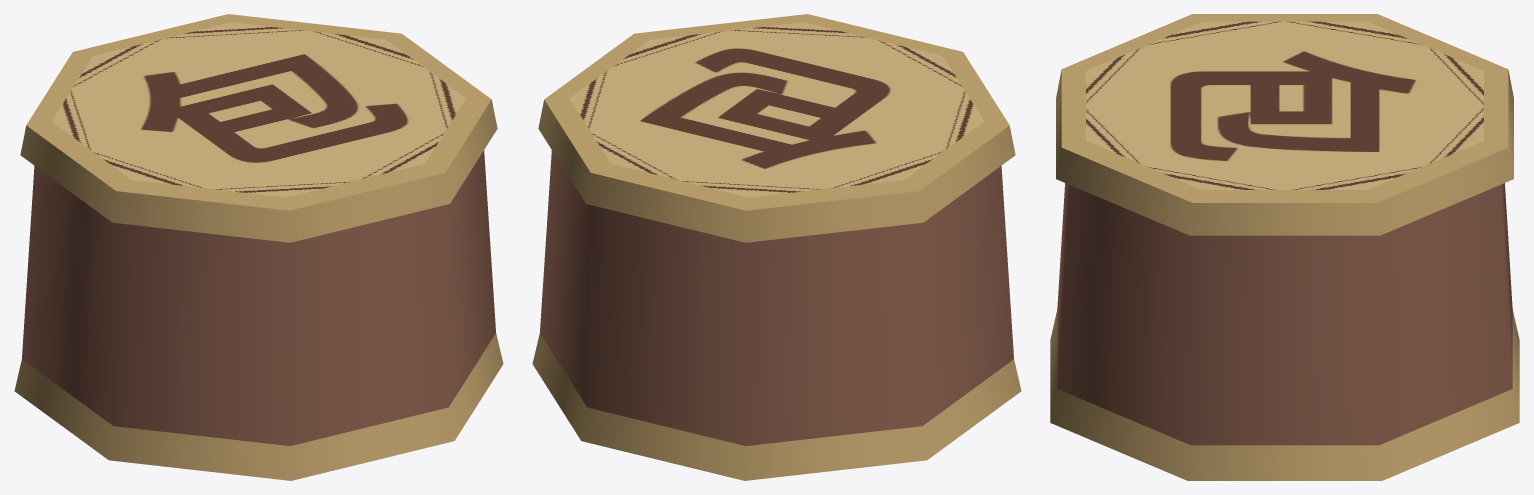
Rendered from Red6.glb.
The picture shows the model from 3 angles, left to right: view 1: azimuth 30°, elevation 25°; view 2: azimuth 150°, elevation 25°; view 3: azimuth 270°, elevation 25°; orthographic projection. The views are drawn at different scales.
Parts seen in each view (by area): view 1: Red6; view 2: Red6; view 3: Red6.
Boxes of the visible parts, x1,y1,x2,y2 form: Red6: (14, 14, 503, 480); Red6: (532, 14, 1021, 480); Red6: (1050, 14, 1519, 480).
Bounding box in the file's own units: 0.7668 × 0.497 × 0.7668.
3 materials, 1 textured.
